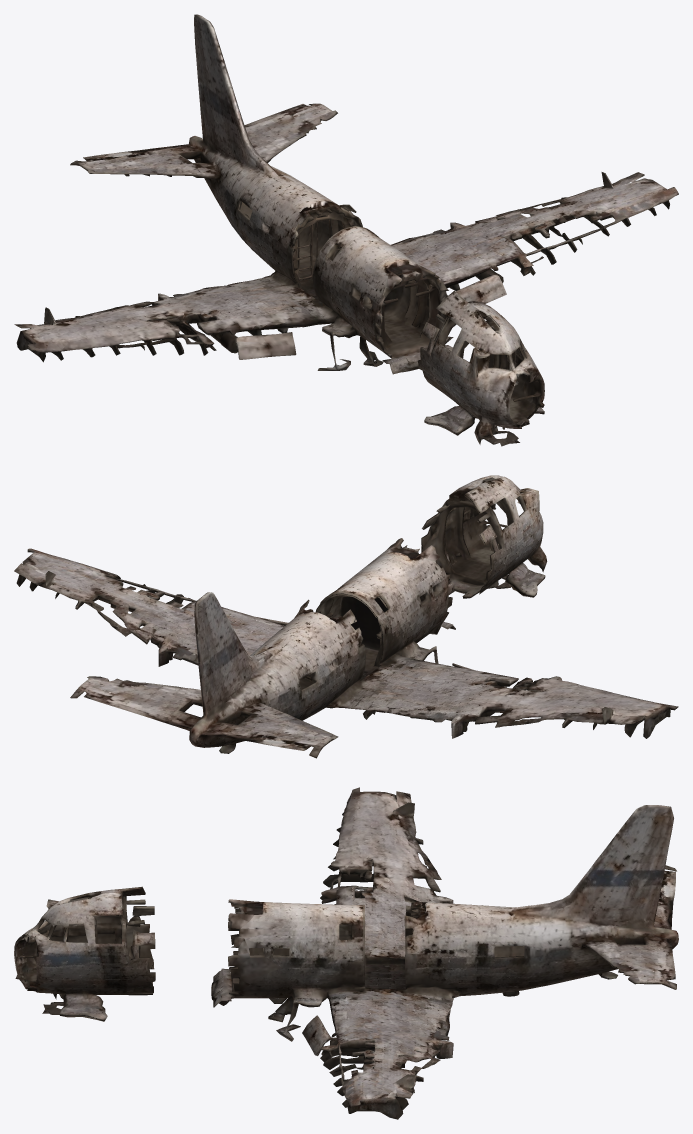
Rendered from airplane wreckage 3d model.glb.
3 views of the same model, one above another, from view 1: azimuth 30°, elevation 25°; view 2: azimuth 150°, elevation 25°; view 3: azimuth 270°, elevation 25° (orthographic).
Parts seen in each view (by area): view 1: tripo_node_7d8567eb-8455-41e3-993e-48853e38f847; view 2: tripo_node_7d8567eb-8455-41e3-993e-48853e38f847; view 3: tripo_node_7d8567eb-8455-41e3-993e-48853e38f847.
Boxes of the visible parts, <box> form: tripo_node_7d8567eb-8455-41e3-993e-48853e38f847: <box>14,14,678,446</box>; tripo_node_7d8567eb-8455-41e3-993e-48853e38f847: <box>14,475,678,758</box>; tripo_node_7d8567eb-8455-41e3-993e-48853e38f847: <box>14,787,678,1119</box>.
Size of the model in its own units: 1 by 0.3023 by 0.8898.
Materials: 1 (1 with a texture image).
